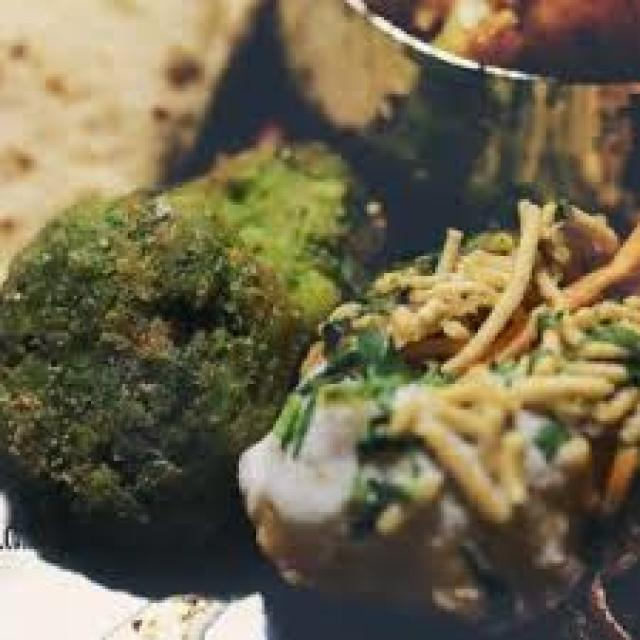papad: (0, 0, 235, 213)
rice: (1, 548, 71, 637)
